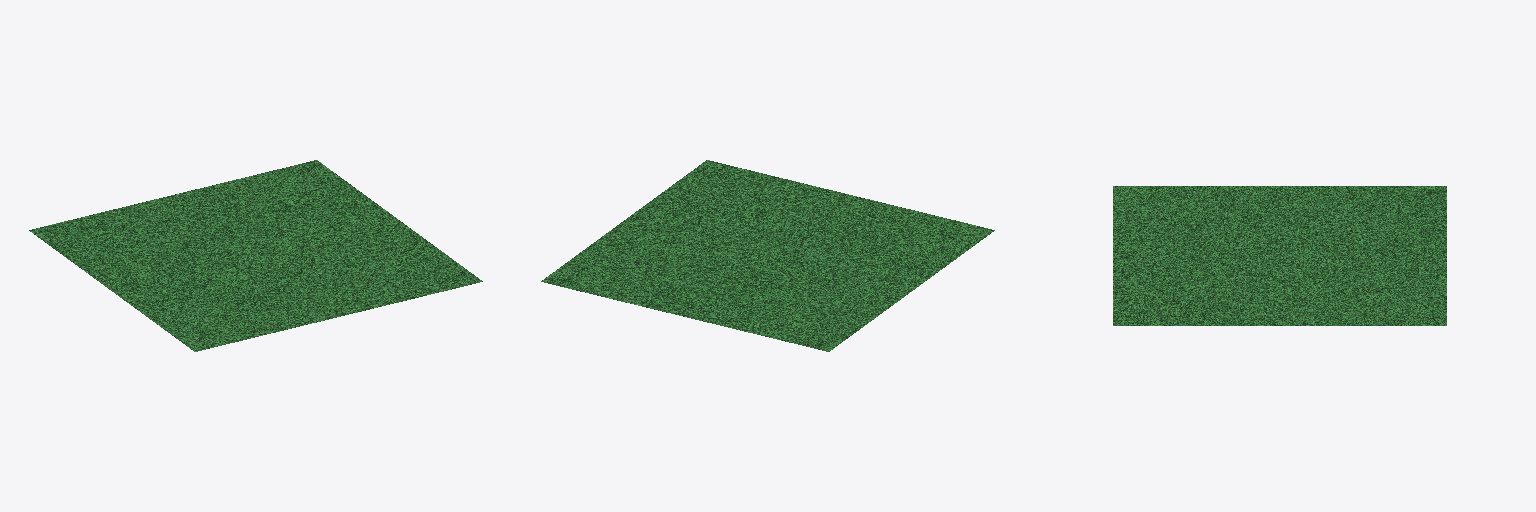
3 renders of one model, left to right at view 1: azimuth 30°, elevation 25°; view 2: azimuth 150°, elevation 25°; view 3: azimuth 270°, elevation 25°, orthographic.
Parts seen in each view (by area): view 1: Grid; view 2: Grid; view 3: Grid.
Boxes of the visible parts, x1,y1,x2,y2 form: Grid: [29, 160, 482, 351]; Grid: [541, 160, 994, 351]; Grid: [1113, 186, 1446, 325].
Bounding box in the file's own units: 10 × 0 × 10.
Materials: 1 (1 with a texture image).